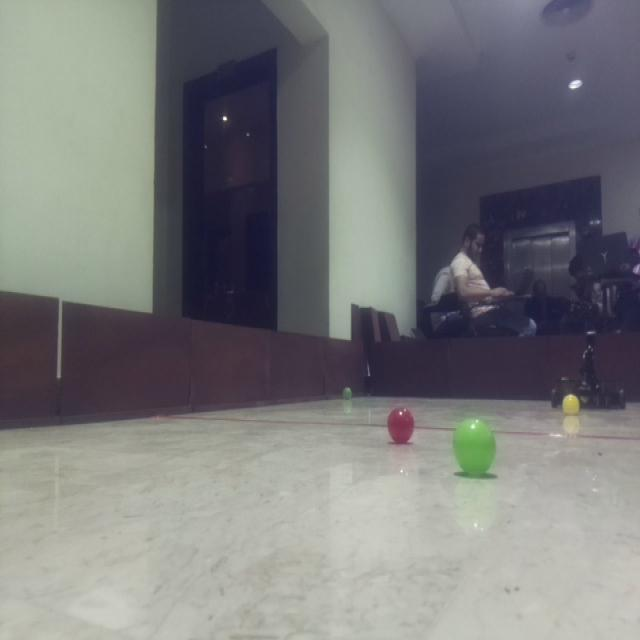ball: (453, 415, 498, 479), (386, 402, 418, 444), (561, 395, 582, 420), (338, 383, 357, 403)
